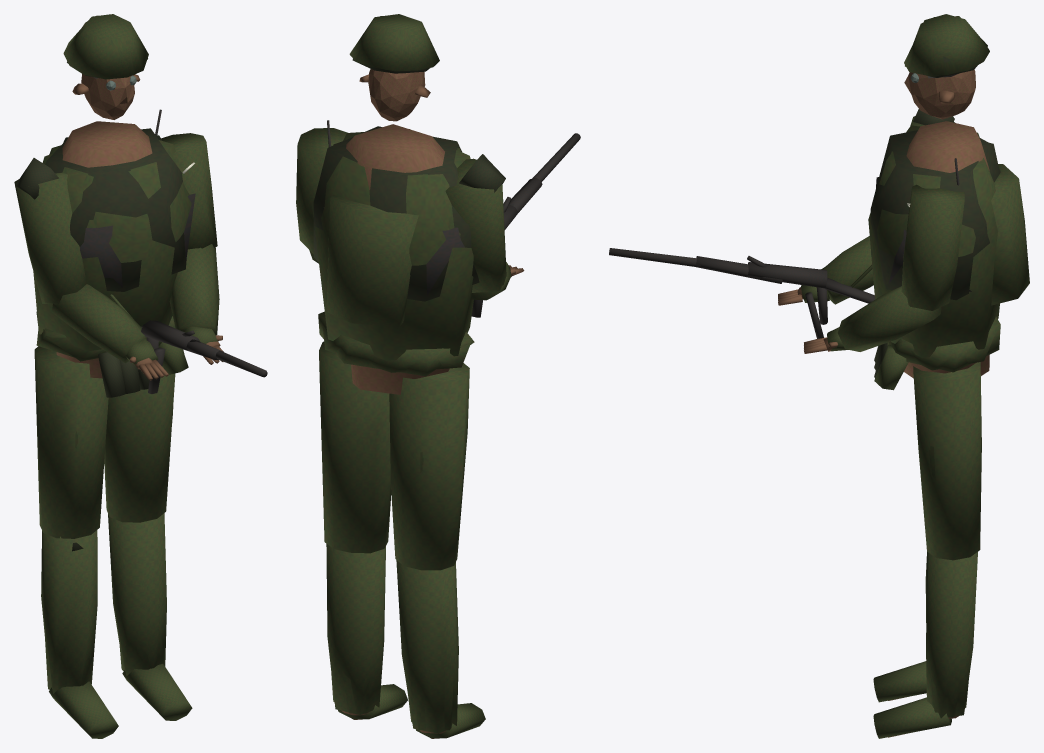
Rendered from inf001_rifleman_lod1.glb.
The picture shows the model from 3 angles, left to right: view 1: azimuth 30°, elevation 25°; view 2: azimuth 150°, elevation 25°; view 3: azimuth 270°, elevation 25°; orthographic projection. The views are drawn at different scales.
Parts seen in each view (by area): view 1: Trouser_LOD1.001, Shirt_LOD1, Trouser_LOD1, TrouserShin_LOD1.001, TrouserShin_LOD1, Vest_LOD1, Sleeve_LOD1.001, HelmetCover_LOD1, SleeveFore_LOD1.001, Torso_LOD1, SleeveFore_LOD1, Sleeve_LOD1 (+12 smaller); view 2: Trouser_LOD1.001, Shirt_LOD1, Trouser_LOD1, Backpack_LOD1, TrouserShin_LOD1.001, TrouserShin_LOD1, Vest_LOD1, Torso_LOD1, Sleeve_LOD1.001, HelmetCover_LOD1, Belt_LOD1, Sleeve_LOD1 (+7 smaller); view 3: Trouser_LOD1, Shirt_LOD1, TrouserShin_LOD1, Sleeve_LOD1, Vest_LOD1, Backpack_LOD1, HelmetCover_LOD1, Torso_LOD1, SleeveFore_LOD1, Head_LOD1, Belt_LOD1, Boot_LOD1 (+6 smaller).
Boxes of the visible parts, left/top/right/bottom form: Trouser_LOD1.001: left=34, top=346, right=108, bottom=538; Shirt_LOD1: left=33, top=140, right=191, bottom=351; Trouser_LOD1: left=104, top=366, right=175, bottom=522; TrouserShin_LOD1.001: left=41, top=530, right=97, bottom=693; TrouserShin_LOD1: left=108, top=513, right=166, bottom=676; Vest_LOD1: left=45, top=128, right=186, bottom=291; Sleeve_LOD1.001: left=14, top=172, right=86, bottom=304; HelmetCover_LOD1: left=63, top=14, right=148, bottom=79; SleeveFore_LOD1.001: left=51, top=284, right=146, bottom=363; Torso_LOD1: left=56, top=121, right=152, bottom=378; SleeveFore_LOD1: left=169, top=244, right=219, bottom=335; Sleeve_LOD1: left=161, top=133, right=217, bottom=249; Trouser_LOD1.001: left=389, top=363, right=469, bottom=570; Shirt_LOD1: left=312, top=129, right=473, bottom=360; Trouser_LOD1: left=319, top=341, right=391, bottom=553; Backpack_LOD1: left=326, top=194, right=418, bottom=326; TrouserShin_LOD1.001: left=396, top=560, right=458, bottom=733; TrouserShin_LOD1: left=326, top=543, right=385, bottom=714; Vest_LOD1: left=313, top=126, right=479, bottom=301; Torso_LOD1: left=346, top=124, right=449, bottom=394; Sleeve_LOD1.001: left=445, top=158, right=506, bottom=292; HelmetCover_LOD1: left=349, top=14, right=439, bottom=71; Belt_LOD1: left=318, top=311, right=474, bottom=376; Sleeve_LOD1: left=296, top=128, right=347, bottom=253; Trouser_LOD1: left=913, top=362, right=981, bottom=560; Shirt_LOD1: left=868, top=125, right=999, bottom=358; TrouserShin_LOD1: left=926, top=552, right=977, bottom=718; Sleeve_LOD1: left=901, top=184, right=964, bottom=310; Vest_LOD1: left=870, top=130, right=1000, bottom=300; Backpack_LOD1: left=991, top=164, right=1029, bottom=305; HelmetCover_LOD1: left=904, top=14, right=989, bottom=76; Torso_LOD1: left=904, top=121, right=989, bottom=378; SleeveFore_LOD1: left=837, top=286, right=941, bottom=351; Head_LOD1: left=904, top=69, right=975, bottom=119; Belt_LOD1: left=887, top=316, right=1000, bottom=372; Boot_LOD1: left=873, top=697, right=951, bottom=738.
Size of the model in its own units: 0.5249 by 1.78 by 0.9732.
Materials: 9 (6 with a texture image).
